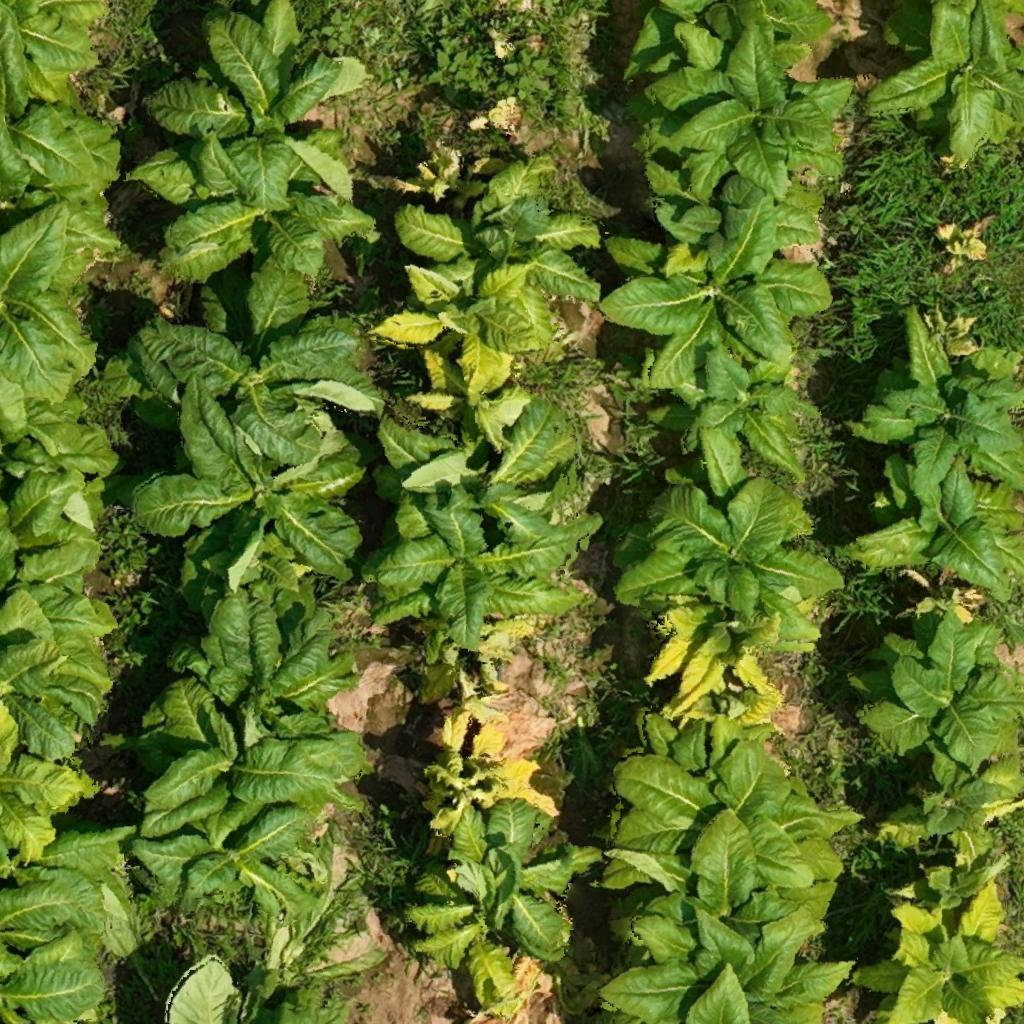Adult: (412, 713, 565, 833), (928, 208, 996, 274)
Larvae: (364, 256, 558, 398), (858, 890, 1022, 1021), (398, 872, 542, 1017), (879, 759, 1023, 872), (0, 708, 94, 862), (410, 338, 533, 450)
missing: (136, 267, 378, 464), (601, 194, 829, 399), (128, 396, 370, 586), (136, 3, 365, 197), (604, 733, 840, 898), (613, 37, 852, 197), (374, 501, 590, 660), (124, 694, 368, 834), (601, 821, 842, 959), (143, 146, 371, 289), (389, 160, 602, 312), (148, 594, 372, 738), (376, 406, 592, 546), (841, 608, 1018, 776), (592, 912, 850, 1023), (615, 479, 838, 606), (869, 6, 1022, 169), (127, 807, 333, 926), (862, 344, 1023, 488), (636, 366, 820, 490), (845, 472, 1023, 600), (0, 202, 101, 416), (445, 806, 576, 951), (0, 599, 115, 756), (616, 2, 834, 82), (6, 832, 132, 959), (0, 414, 123, 534), (4, 473, 112, 601), (0, 106, 127, 214), (0, 2, 112, 116), (0, 934, 129, 1022)
tobacco: (634, 603, 804, 731)
